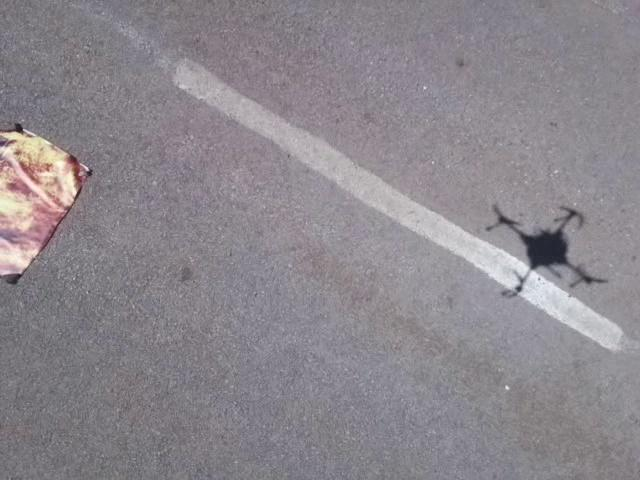fire-poster: (0, 120, 93, 286)
